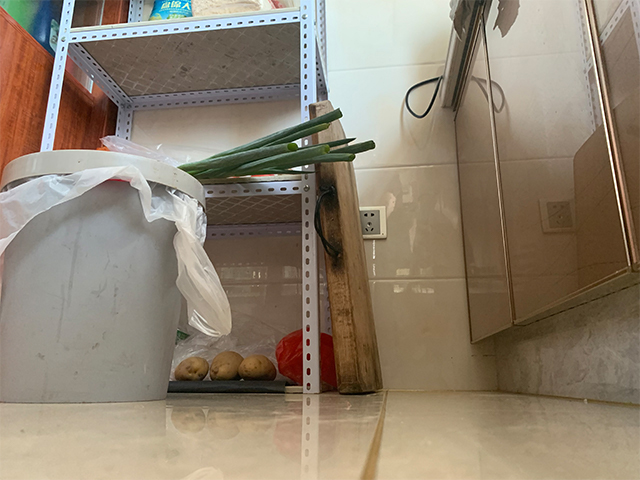cabinet: (437, 1, 639, 406)
trashcan: (1, 148, 208, 405)
